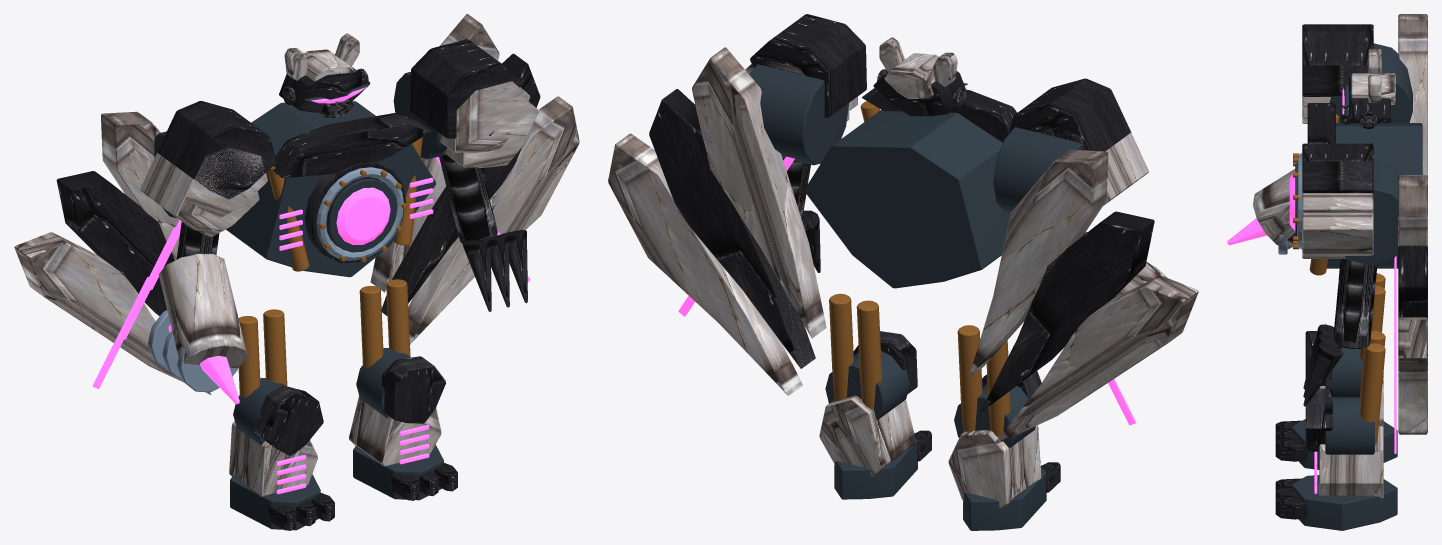
The model's file is the_architect.glb.
3 views of the same model, side by side, from view 1: azimuth 30°, elevation 25°; view 2: azimuth 150°, elevation 25°; view 3: azimuth 270°, elevation 25° (orthographic). The views are drawn at different scales.
Parts seen in each view (by area): view 1: Navy crown, Collar armor, Scalloped shoulder armor.001, Angular main chassis, Scalloped shoulder armor.003, Scalloped shoulder armor, Scalloped shoulder armor.004, Energy nucleus, Knee impact armor, Knee impact armor.001, Gait pivot.001, Gait pivot (+14 smaller); view 2: Navy crown, Collar armor, Angular main chassis, Scalloped shoulder armor.003, Shoulder pivot.001, Scalloped shoulder armor, Shin carapace.001, Shin carapace, Gait pivot.001, Exposed thigh piston.002, Gait pivot, Shoulder pivot (+6 smaller); view 3: Navy crown, Gait pivot.001, Scalloped shoulder armor.003, Scalloped shoulder armor.004, Scalloped shoulder armor, Collar armor, Angular main chassis, Forearm piston.001, Shin carapace.001, Shoulder pivot.001, Knee impact armor.001, Scalloped shoulder armor.001 (+10 smaller).
Boxes of the visible parts, x1,y1,x2,y2 form: Navy crown: (14, 14, 579, 395); Collar armor: (56, 53, 540, 316); Scalloped shoulder armor.001: (140, 147, 267, 368); Angular main chassis: (226, 83, 436, 277); Scalloped shoulder armor.003: (410, 39, 527, 311); Scalloped shoulder armor: (157, 101, 276, 199); Scalloped shoulder armor.004: (440, 81, 538, 167); Energy nucleus: (92, 87, 530, 388); Knee impact armor: (253, 385, 334, 530); Knee impact armor.001: (381, 356, 457, 500); Gait pivot.001: (353, 348, 443, 500); Gait pivot: (230, 378, 320, 530); Navy crown: (608, 37, 1198, 445); Collar armor: (649, 71, 1154, 412); Angular main chassis: (804, 83, 1010, 288); Scalloped shoulder armor.003: (750, 14, 866, 272); Shoulder pivot.001: (749, 64, 848, 165); Scalloped shoulder armor: (1008, 78, 1131, 151); Shin carapace.001: (819, 395, 916, 477); Shin carapace: (948, 425, 1041, 507); Gait pivot.001: (825, 351, 917, 499); Exposed thigh piston.002: (829, 293, 882, 410); Gait pivot: (954, 383, 1046, 530); Shoulder pivot: (993, 127, 1081, 213); Navy crown: (1351, 14, 1427, 434); Gait pivot.001: (1291, 397, 1397, 530); Scalloped shoulder armor.003: (1302, 143, 1373, 406); Scalloped shoulder armor.004: (1302, 192, 1373, 258); Scalloped shoulder armor: (1302, 24, 1373, 96); Collar armor: (1307, 77, 1427, 318); Angular main chassis: (1295, 85, 1422, 268); Forearm piston.001: (1333, 259, 1377, 348); Shin carapace.001: (1319, 426, 1383, 498); Shoulder pivot.001: (1345, 159, 1403, 265); Knee impact armor.001: (1275, 388, 1332, 519); Scalloped shoulder armor.001: (1253, 96, 1330, 249).
Size of the model in its own units: 4.57 by 3.48 by 1.5.
Materials: 7 (3 with a texture image).
